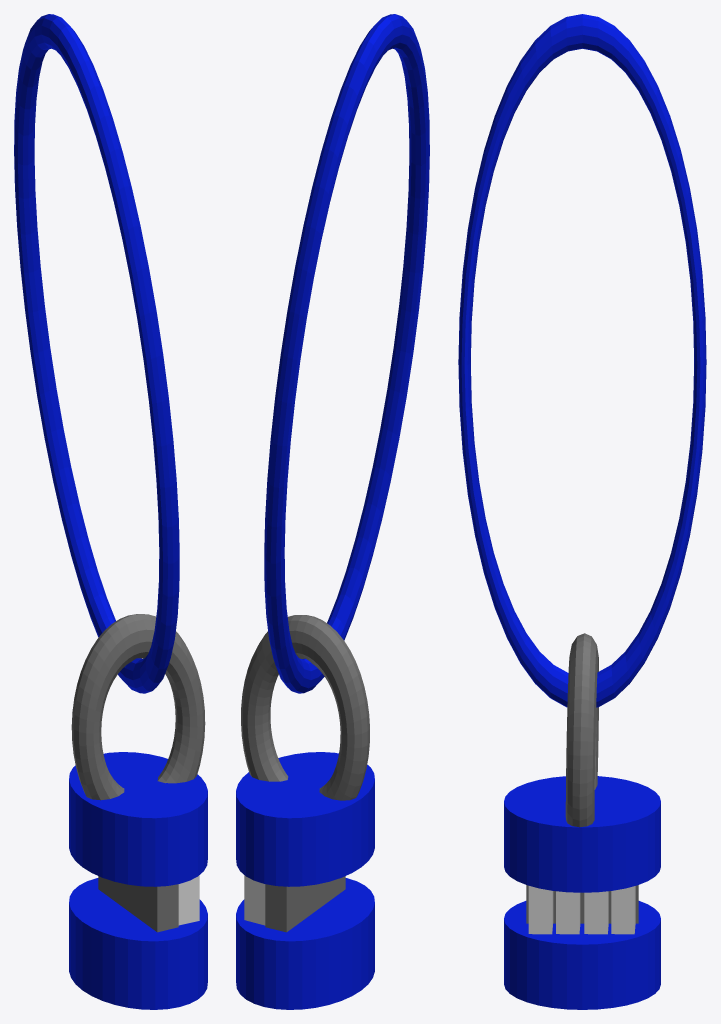
File: bluelock4.fbx
3 renders of one model, left to right at view 1: azimuth 30°, elevation 25°; view 2: azimuth 150°, elevation 25°; view 3: azimuth 270°, elevation 25°, orthographic. The views are drawn at different scales.
Visible parts, largest first — view 1: Torus.002, Cylinder, Cylinder.001, Torus.001, Cube.002, Cube.003; view 2: Torus.002, Cylinder, Cylinder.001, Torus.001, Cube.002, Cube.001; view 3: Torus.002, Cylinder, Cylinder.001, Torus.001, Cube.003, Cube.001, Cube.005, Cube.004, Cube.002.
Boxes of the visible parts, bbox=[...] form: Torus.002: bbox=[14, 14, 179, 693]; Cylinder: bbox=[69, 752, 207, 886]; Cylinder.001: bbox=[69, 878, 207, 1009]; Torus.001: bbox=[71, 614, 205, 800]; Cube.002: bbox=[98, 876, 178, 932]; Cube.003: bbox=[178, 875, 199, 925]; Torus.002: bbox=[264, 14, 429, 693]; Cylinder: bbox=[236, 752, 374, 886]; Cylinder.001: bbox=[236, 878, 374, 1009]; Torus.001: bbox=[241, 615, 369, 800]; Cube.002: bbox=[265, 876, 345, 932]; Cube.001: bbox=[244, 875, 265, 925]; Torus.002: bbox=[458, 14, 706, 707]; Cylinder: bbox=[504, 776, 660, 892]; Cylinder.001: bbox=[504, 901, 660, 1009]; Torus.001: bbox=[565, 633, 598, 827]; Cube.003: bbox=[528, 886, 553, 934]; Cube.001: bbox=[611, 886, 635, 934]; Cube.005: bbox=[584, 891, 608, 934]; Cube.004: bbox=[556, 891, 580, 934]; Cube.002: bbox=[526, 885, 638, 923].
Bounding box in the file's own units: 34.79 × 213 × 51.42.
